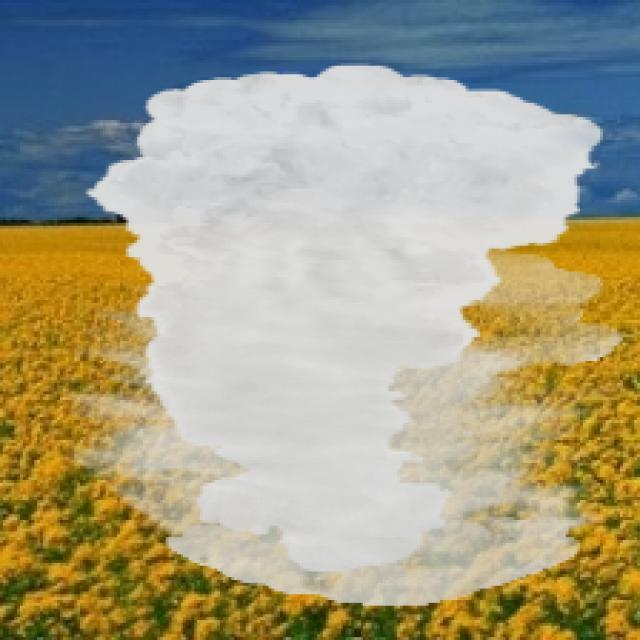Smoke: (63, 63, 623, 606)
